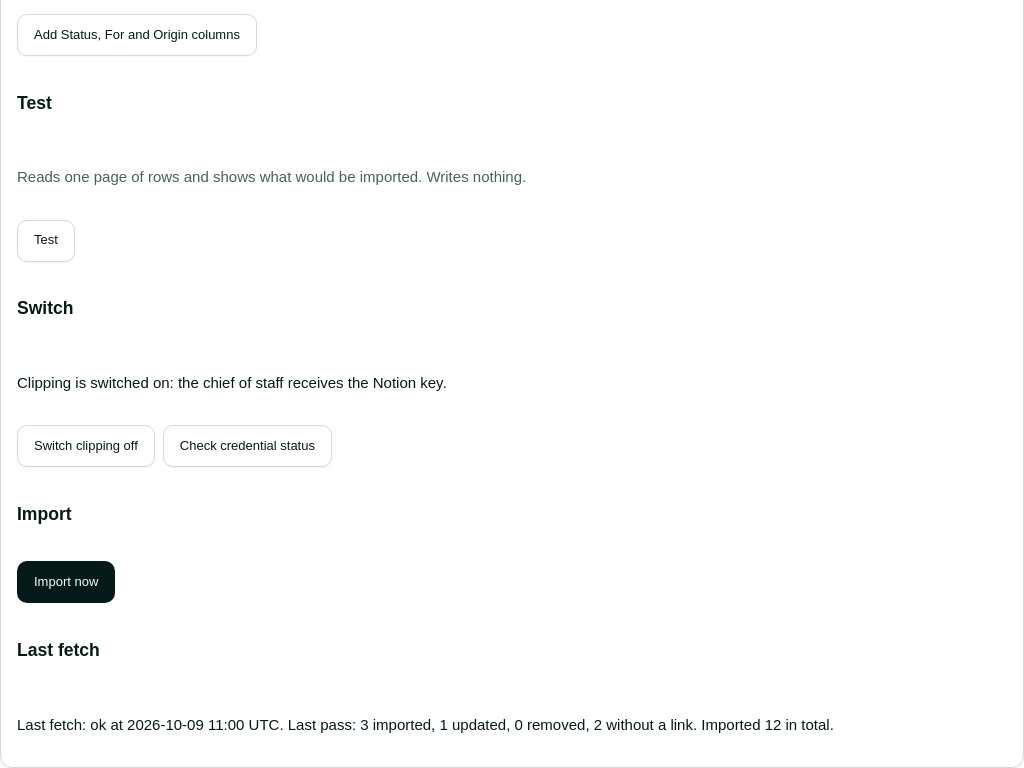
Test: the switch confirms before restarting anything › off: uses the status inventory revision, lists the current consumers, then revokes
(page scrolled)
Click the button "Switch clipping off" at (86, 446), box [17,425,155,467]
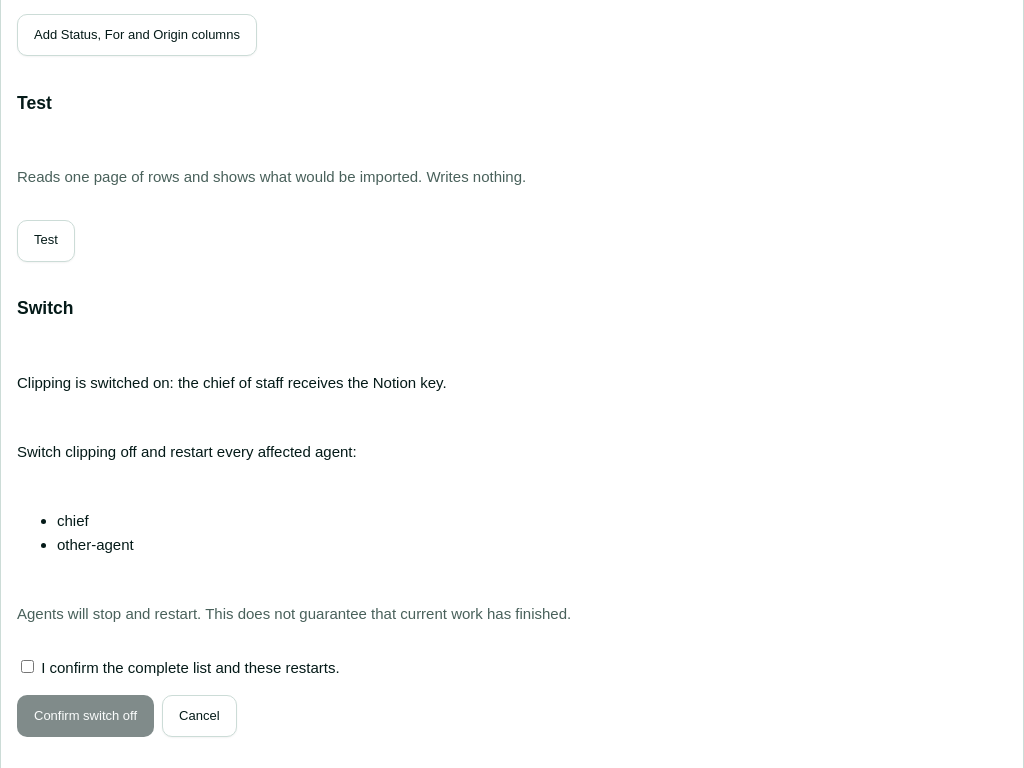
Now the element named "Confirm clipping switch" shows "other-agent", box [57,536,134,553]
Click the checkbox at (28, 667), box [21,660,34,673]
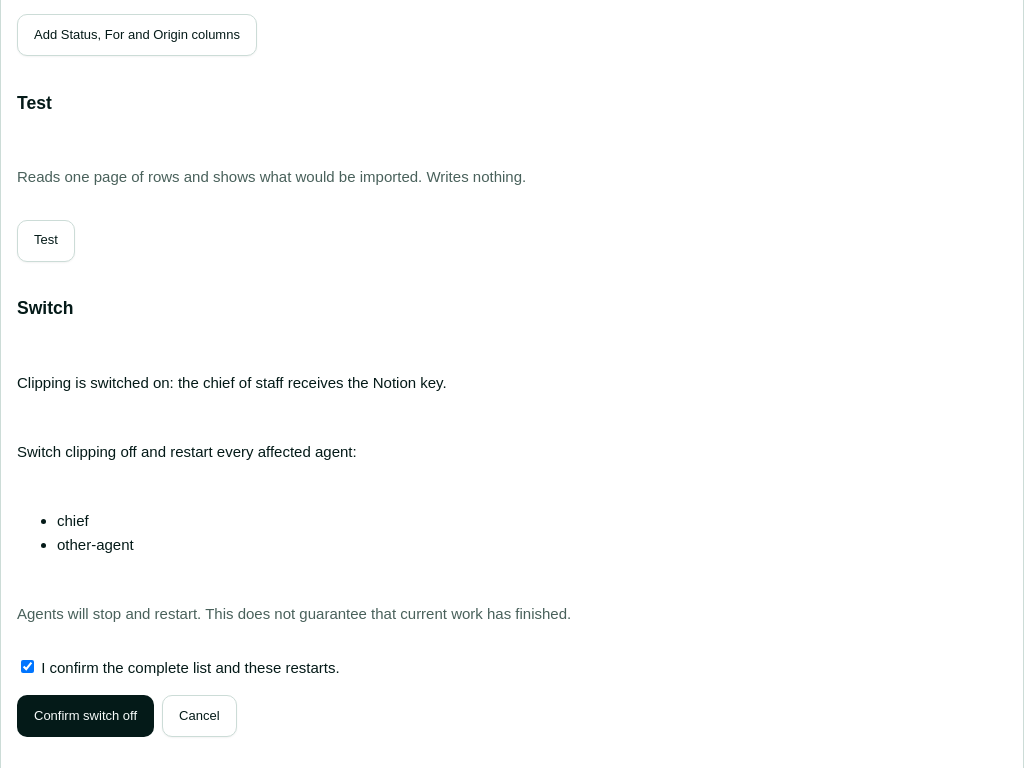
Click the button "Confirm switch off" at (86, 716), box [17,695,154,737]
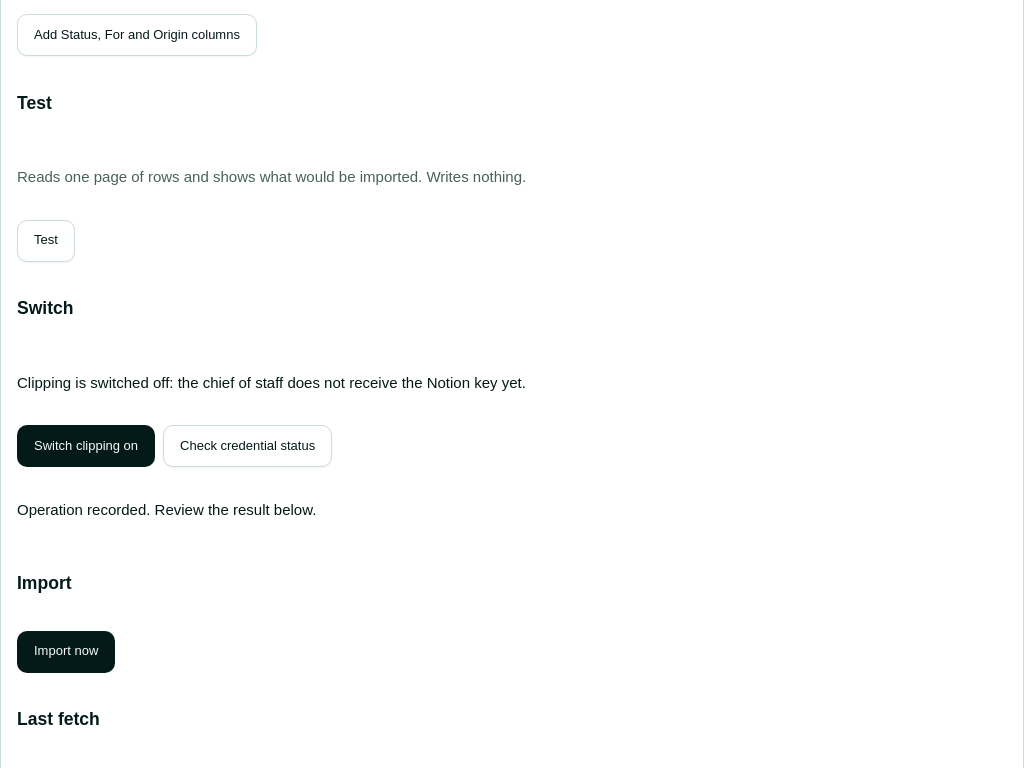
Now the text "Clipping is switched off" is shown, box [17,374,526,391]
